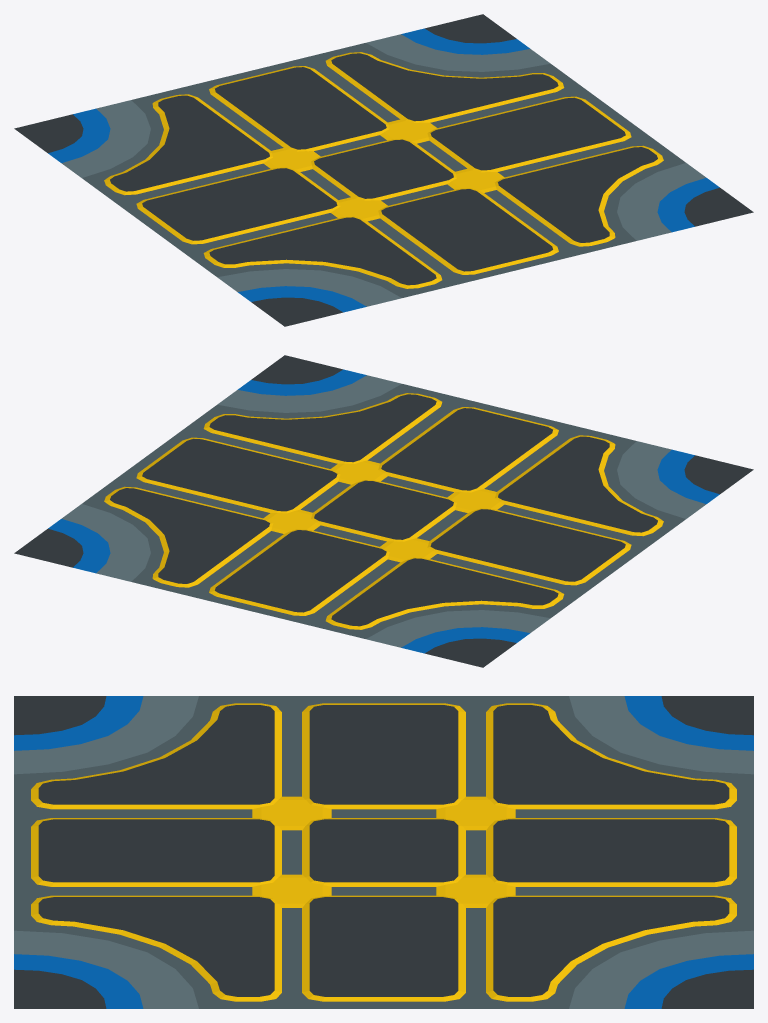
Rendered from Floor_type_C_015.fbx.
3 views of the same model, one above another, from view 1: azimuth 30°, elevation 25°; view 2: azimuth 150°, elevation 25°; view 3: azimuth 270°, elevation 25° (orthographic). The views are drawn at different scales.
Visible parts, largest first — view 1: Floor_type_C_015; view 2: Floor_type_C_015; view 3: Floor_type_C_015.
Boxes of the visible parts, left/top/right/bottom form: Floor_type_C_015: left=14, top=14, right=753, bottom=326; Floor_type_C_015: left=14, top=355, right=753, bottom=667; Floor_type_C_015: left=14, top=696, right=753, bottom=1008.
Size of the model in its own units: 400 by 400 by 1.34.
